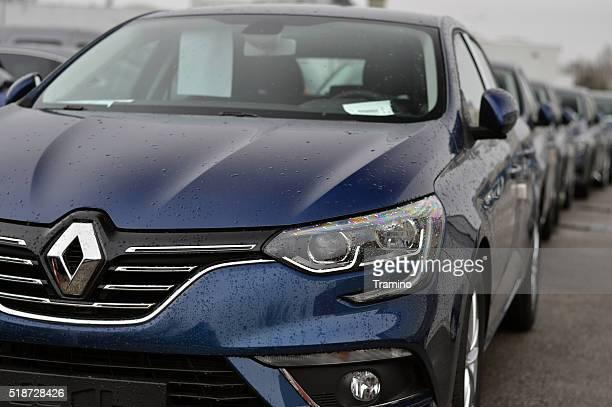Renault: (35, 208, 118, 309)
